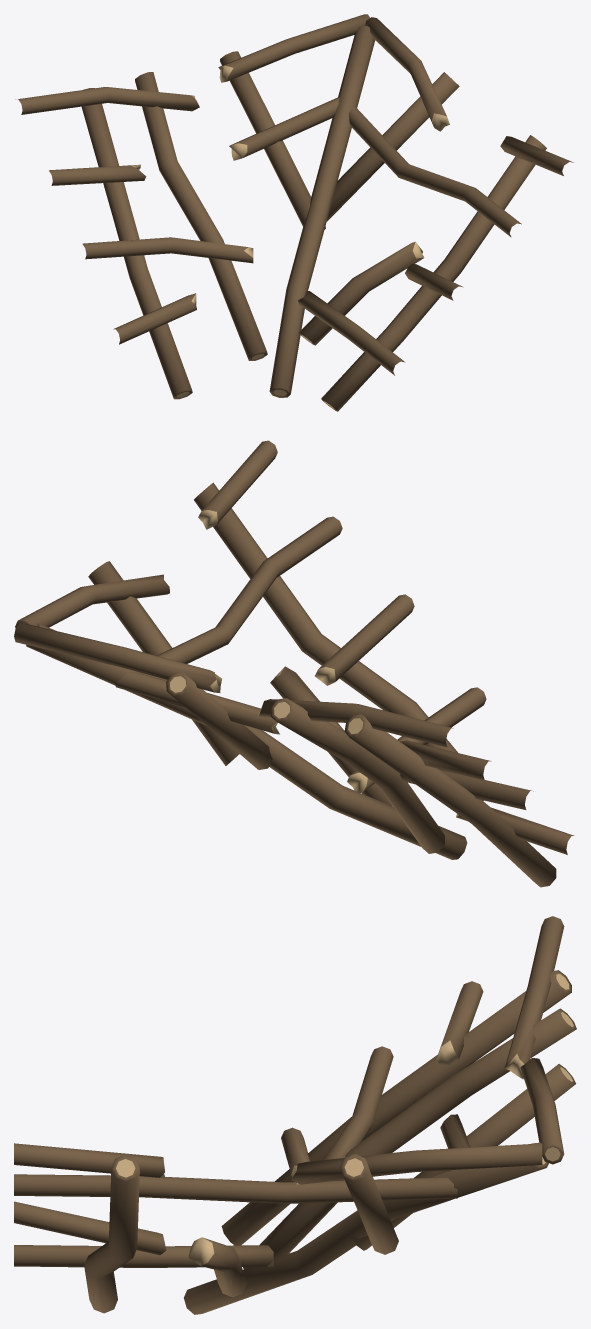
Rendered from rpgpp_av_roof_support_01_6x3x3_corner_01a.gltf.
The picture shows the model from 3 angles, top to bottom: view 1: azimuth 30°, elevation 25°; view 2: azimuth 150°, elevation 25°; view 3: azimuth 270°, elevation 25°; orthographic projection. The views are drawn at different scales.
Parts seen in each view (by area): view 1: rpgpp_av_roof_support_01_6x3x3_corner_01a; view 2: rpgpp_av_roof_support_01_6x3x3_corner_01a; view 3: rpgpp_av_roof_support_01_6x3x3_corner_01a.
Part boxes in pixels (x1=…): rpgpp_av_roof_support_01_6x3x3_corner_01a: x1=15, y1=14, x2=573, y2=411; rpgpp_av_roof_support_01_6x3x3_corner_01a: x1=14, y1=440, x2=574, y2=887; rpgpp_av_roof_support_01_6x3x3_corner_01a: x1=14, y1=916, x2=576, y2=1314.
Bounding box in the file's own units: 0.0629 × 0.0385 × 0.0627.
1 material, 1 textured.
